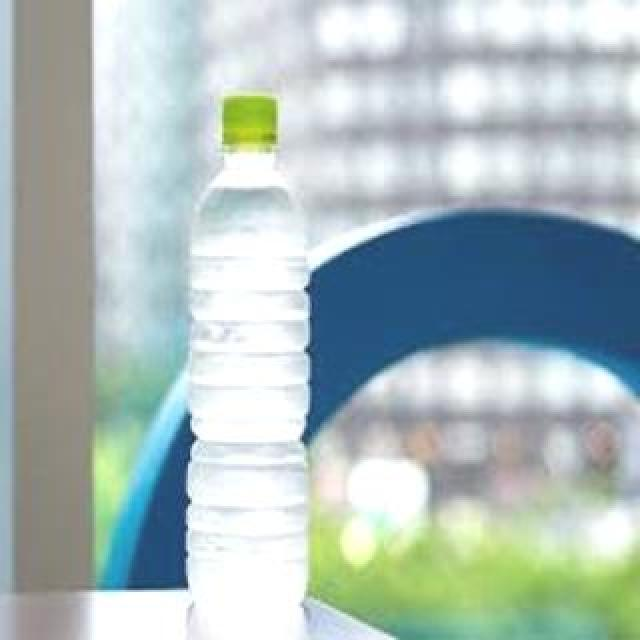Pet_Bottle: (182, 94, 316, 640)
